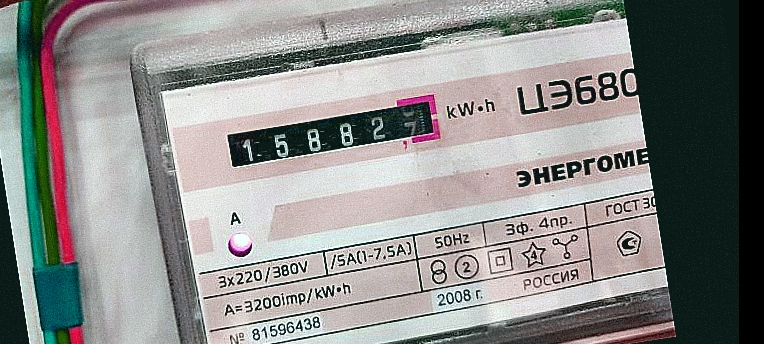1: (238, 133, 257, 163)
2: (368, 112, 388, 142)
5: (270, 129, 292, 158)
7: (401, 117, 419, 136)
8: (303, 124, 323, 154), (336, 118, 355, 148)
screen: (211, 83, 452, 181)
